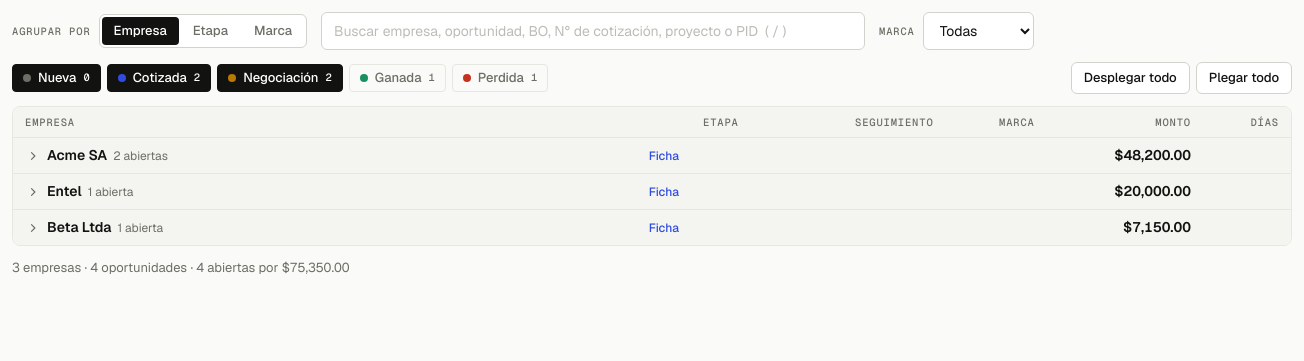
ArbolTab › si lo buscado está en una etapa oculta por el filtro, lo dice y ofrece verla
The image size is (1304, 361).
Check: the element named "Árbol del CRM" is shown, box x1=13 y1=107 x2=1291 y2=245
Replace the text in the search field with "rack perdido" at (593, 31), box x1=321 y1=12 x2=865 y2=50
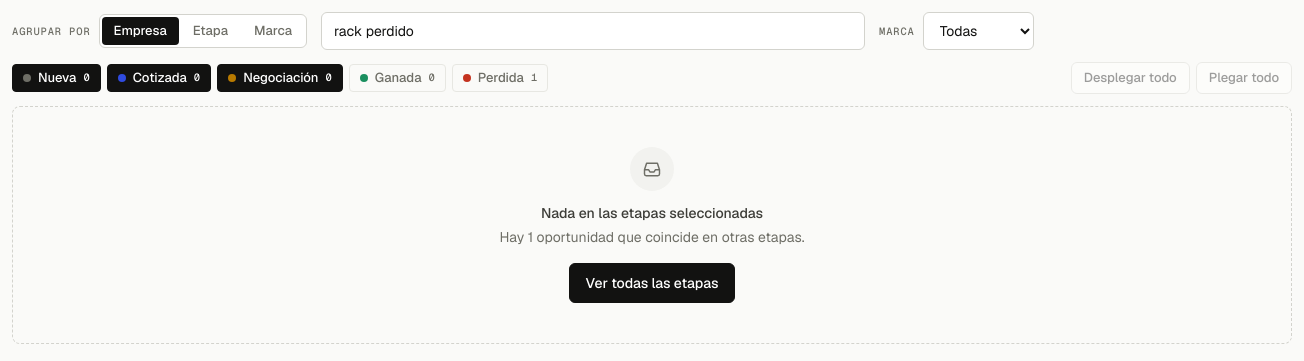
Check: the text "Nada en las etapas seleccionadas" is shown, box x1=541 y1=203 x2=763 y2=223
Check: the text "Hay 1 oportunidad que coincide en otras etapas." is shown, box x1=500 y1=227 x2=805 y2=247
Click the button "Ver todas las etapas" at (652, 283), box x1=569 y1=263 x2=735 y2=303
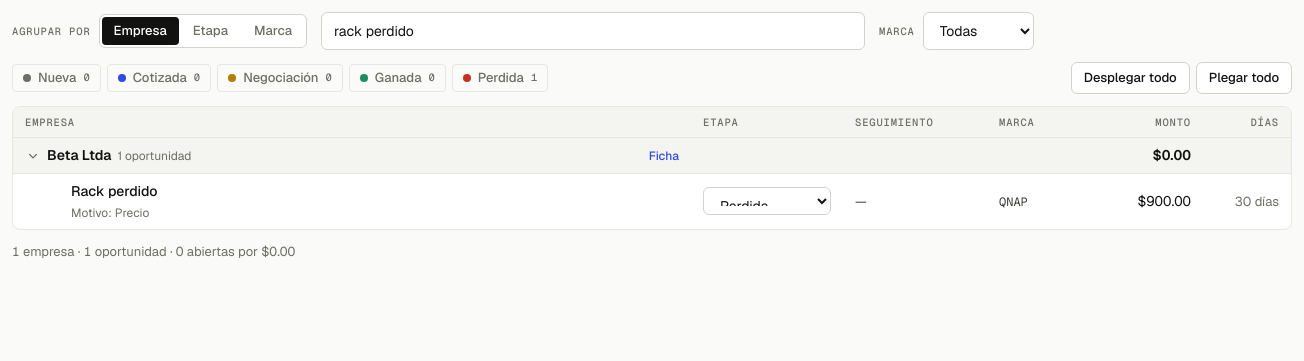
Check: the element named "Árbol del CRM" is shown, box x1=13 y1=107 x2=1291 y2=229
Replace the text in the search field with "esto no existe" at (593, 31), box x1=321 y1=12 x2=865 y2=50
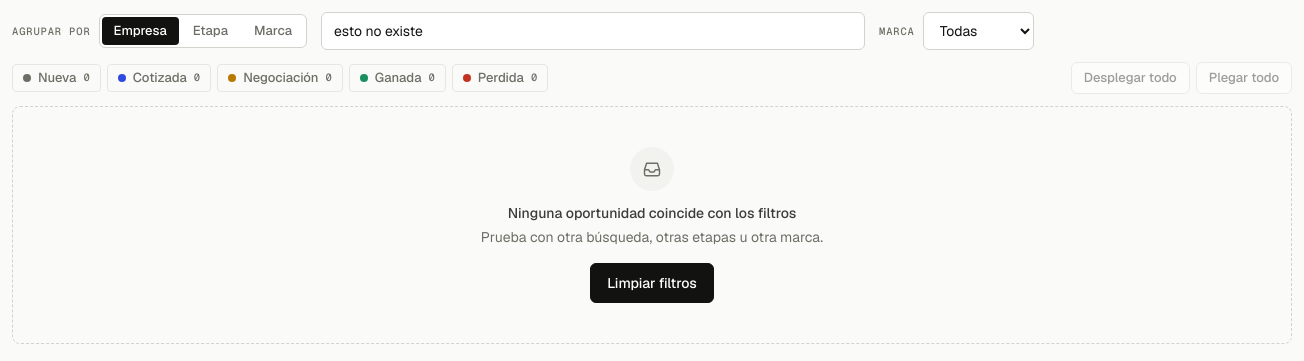
Check: the text "Ninguna oportunidad coincide con los filtros" is shown, box x1=508 y1=203 x2=796 y2=223
